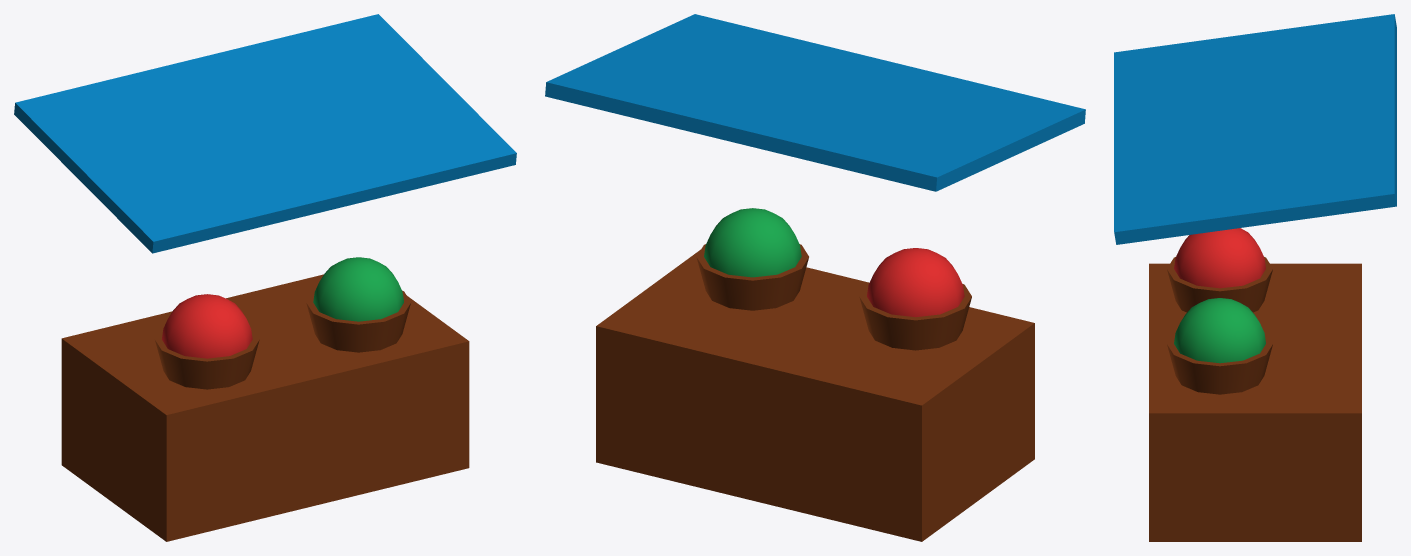
File: env_mama_mboga_stall_01.glb
3 renders of one model, left to right at view 1: azimuth 30°, elevation 25°; view 2: azimuth 150°, elevation 25°; view 3: azimuth 270°, elevation 25°, orthographic. The views are drawn at different scales.
Parts seen in each view (by area): view 1: env_mama_mboga_stall_01; view 2: env_mama_mboga_stall_01; view 3: env_mama_mboga_stall_01.
Part boxes in pixels (x1,y1,x2,y2): env_mama_mboga_stall_01: (14,14,516,541); env_mama_mboga_stall_01: (545,14,1085,541); env_mama_mboga_stall_01: (1114,14,1396,541).
Bounding box in the file's own units: 2.4 × 2.26 × 1.59.
